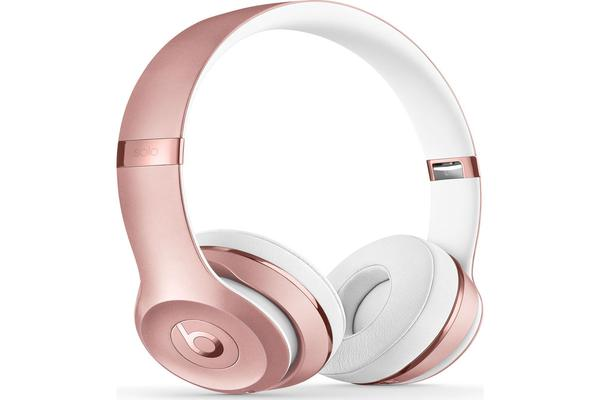headphone: (63, 5, 531, 400)
